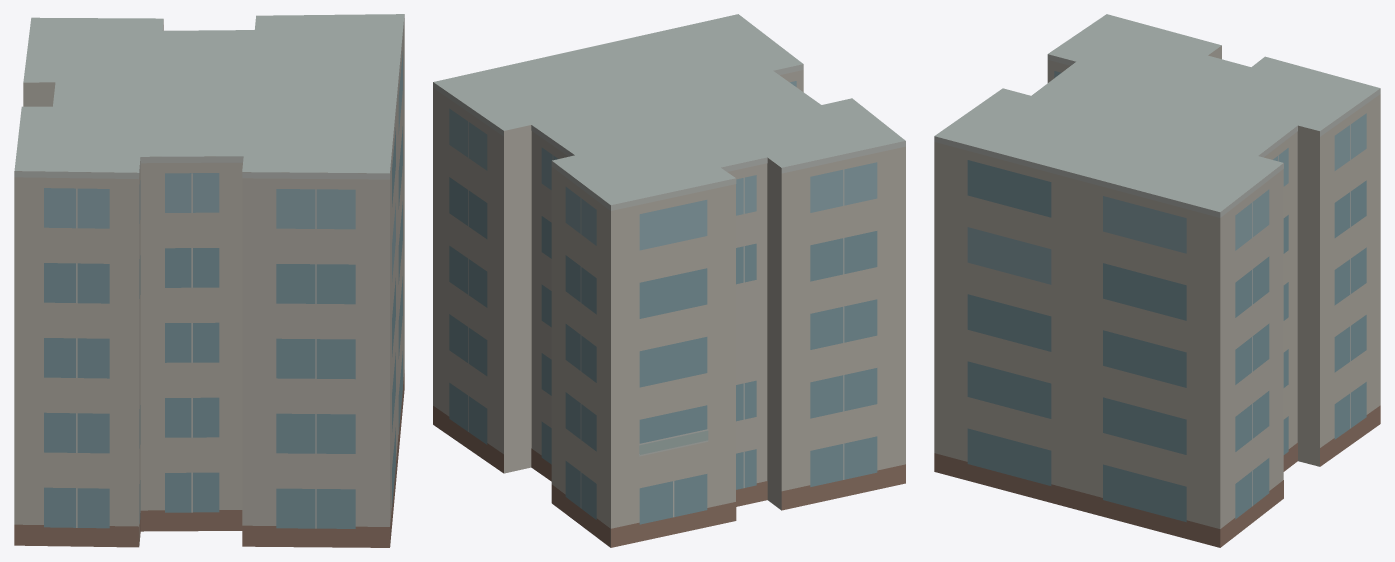
Rendered from survey-upis-32818472.glb.
The picture shows the model from 3 angles, left to right: view 1: azimuth 30°, elevation 25°; view 2: azimuth 150°, elevation 25°; view 3: azimuth 270°, elevation 25°; orthographic projection. The views are drawn at different scales.
Parts seen in each view (by area): view 1: survey-upis-32818472.tmp; view 2: survey-upis-32818472.tmp; view 3: survey-upis-32818472.tmp.
Part boxes in pixels (bbox=[...]): survey-upis-32818472.tmp: bbox=[14, 14, 404, 547]; survey-upis-32818472.tmp: bbox=[433, 14, 905, 547]; survey-upis-32818472.tmp: bbox=[934, 14, 1380, 547].
Size of the model in its own units: 18.25 by 14.4 by 17.37.
